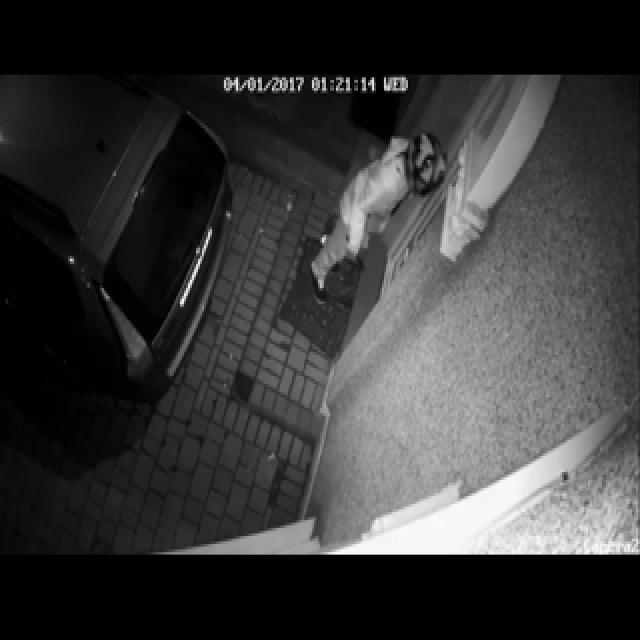burglary: (187, 81, 494, 436)
